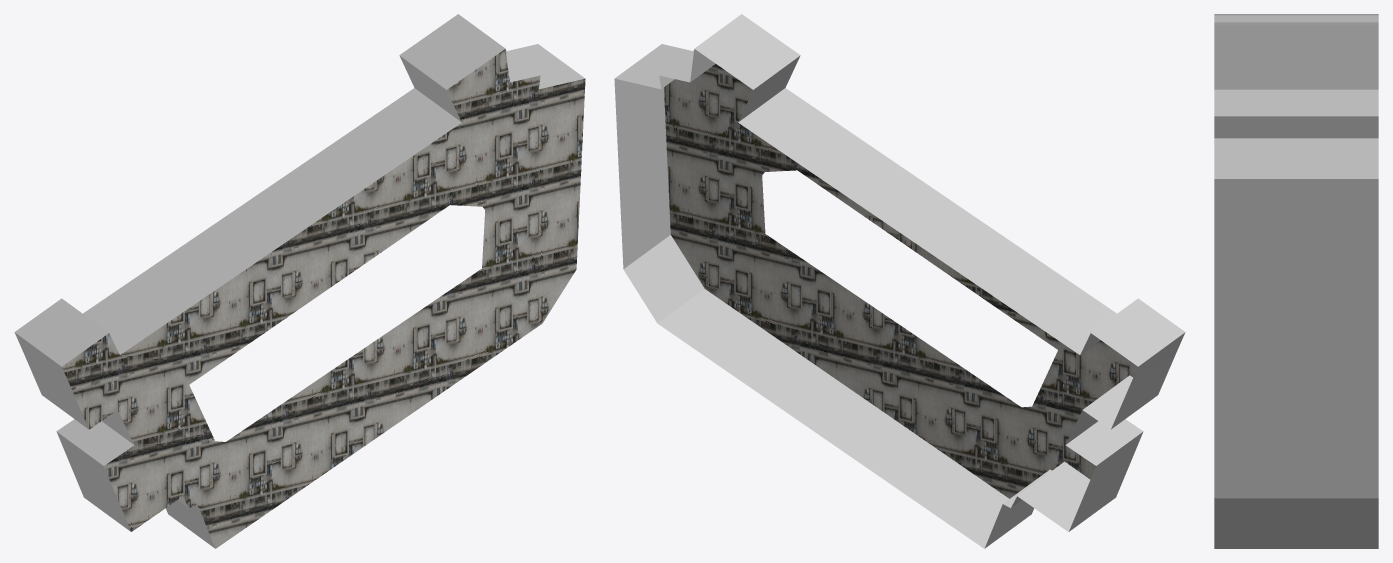
The model's file is geospecific_223.obj.
3 renders of one model, left to right at view 1: azimuth 30°, elevation 25°; view 2: azimuth 150°, elevation 25°; view 3: azimuth 270°, elevation 25°, orthographic. The views are drawn at different scales.
Visible parts, largest first — view 1: Building; view 2: Building; view 3: Building.
Part boxes in pixels (<box>): Building: <box>14,14,585,548</box>; Building: <box>614,14,1185,548</box>; Building: <box>1214,14,1378,548</box>.
Size of the model in its own units: 57.41 by 45 by 9.
